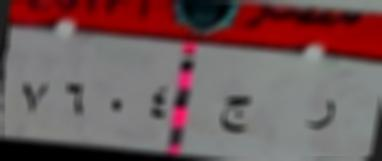0: (100, 92, 129, 123)
4: (140, 83, 172, 123)
6: (59, 78, 88, 116)
7: (16, 77, 51, 118)
jeem: (213, 91, 257, 138)
raa: (300, 89, 337, 138)
